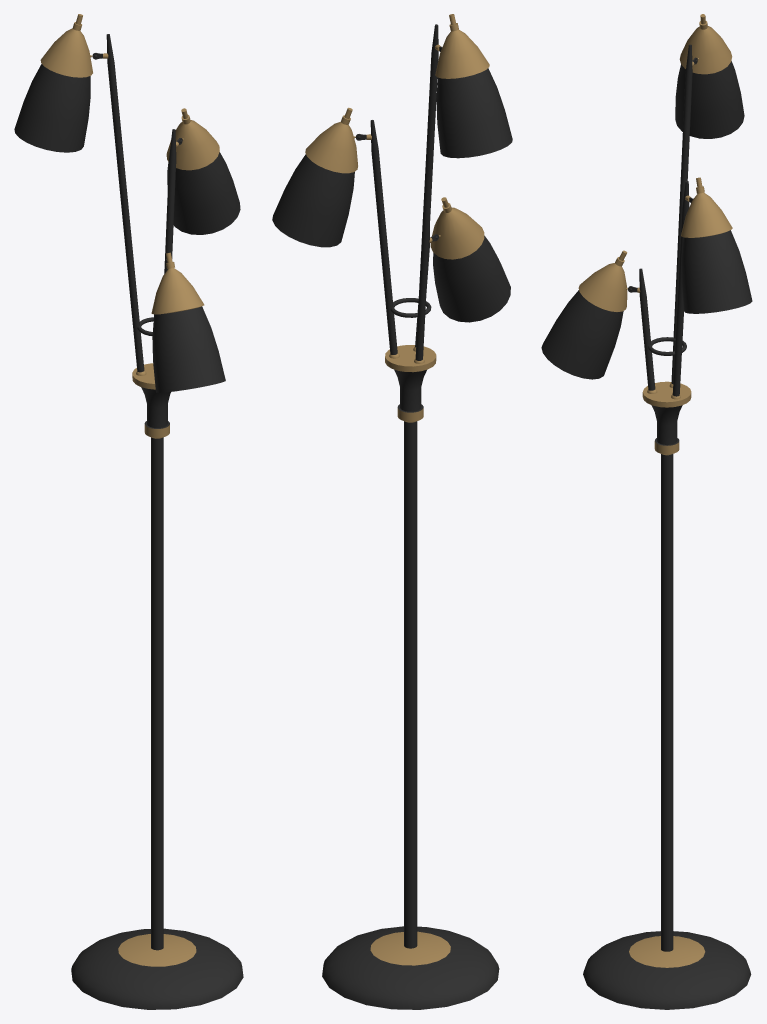
3 views of the same model, side by side, from view 1: azimuth 30°, elevation 25°; view 2: azimuth 150°, elevation 25°; view 3: azimuth 270°, elevation 25° (orthographic). The views are drawn at different scales.
Visible parts, largest first — view 1: S_floorlamp_A_EHH_01; view 2: S_floorlamp_A_EHH_01; view 3: S_floorlamp_A_EHH_01.
Part boxes in pixels (<box>): S_floorlamp_A_EHH_01: <box>14,14,243,1009</box>; S_floorlamp_A_EHH_01: <box>272,14,512,1009</box>; S_floorlamp_A_EHH_01: <box>541,14,752,1009</box>.
Bounding box in the file's own units: 0.3812 × 1.58 × 0.3256.
3 materials, 2 textured.
